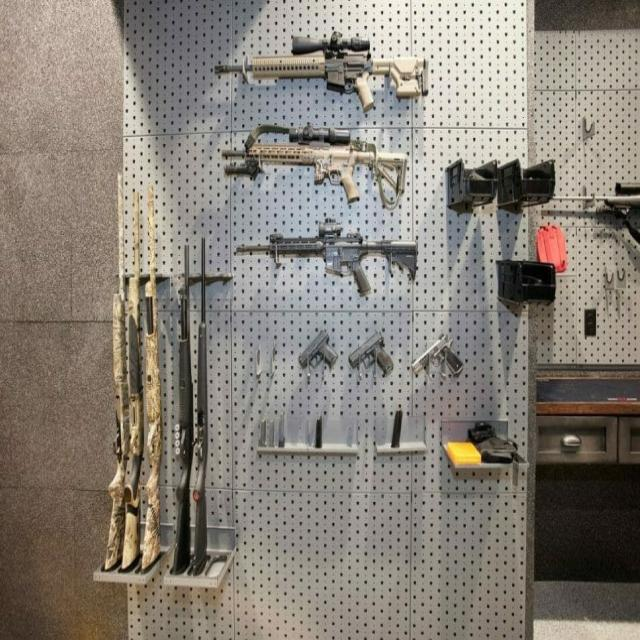HandGun: (413, 337, 463, 375), (349, 333, 393, 376), (298, 331, 338, 371)
Rifle: (214, 37, 424, 112), (222, 123, 407, 206), (236, 222, 418, 295)
ShotGun: (105, 173, 129, 571), (141, 182, 163, 573), (171, 241, 193, 577), (123, 190, 142, 571), (193, 237, 209, 577)
